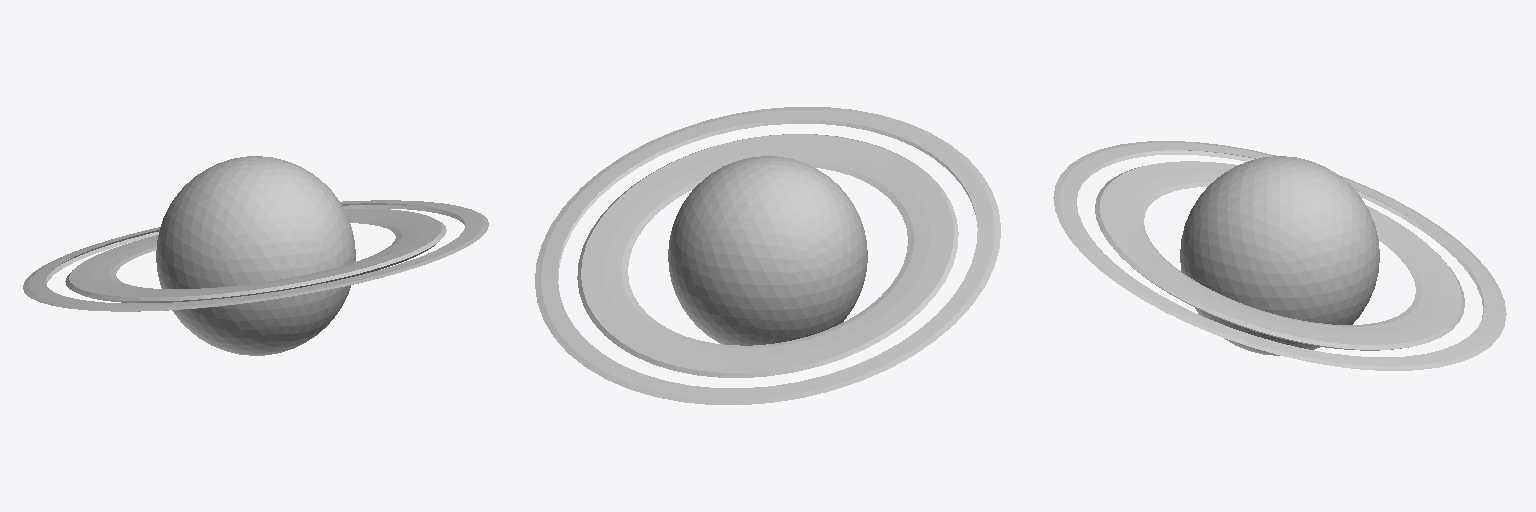
The model's file is Gas Planet 1.obj.
The picture shows the model from 3 angles: view 1: azimuth 30°, elevation 25°; view 2: azimuth 150°, elevation 25°; view 3: azimuth 270°, elevation 25°; orthographic projection.
Parts seen in each view (by area): view 1: Icosphere.005_Icosphere.001, Torus; view 2: Torus, Icosphere.005_Icosphere.001; view 3: Torus, Icosphere.005_Icosphere.001.
Boxes of the visible parts, box(x1,y1,x2,y2) form: Icosphere.005_Icosphere.001: box(156, 156, 355, 355); Torus: box(23, 200, 488, 311); Torus: box(535, 107, 1000, 404); Icosphere.005_Icosphere.001: box(668, 156, 867, 345); Torus: box(1053, 141, 1506, 370); Icosphere.005_Icosphere.001: box(1180, 156, 1379, 355).
Bounding box in the file's own units: 391 × 166 × 376.